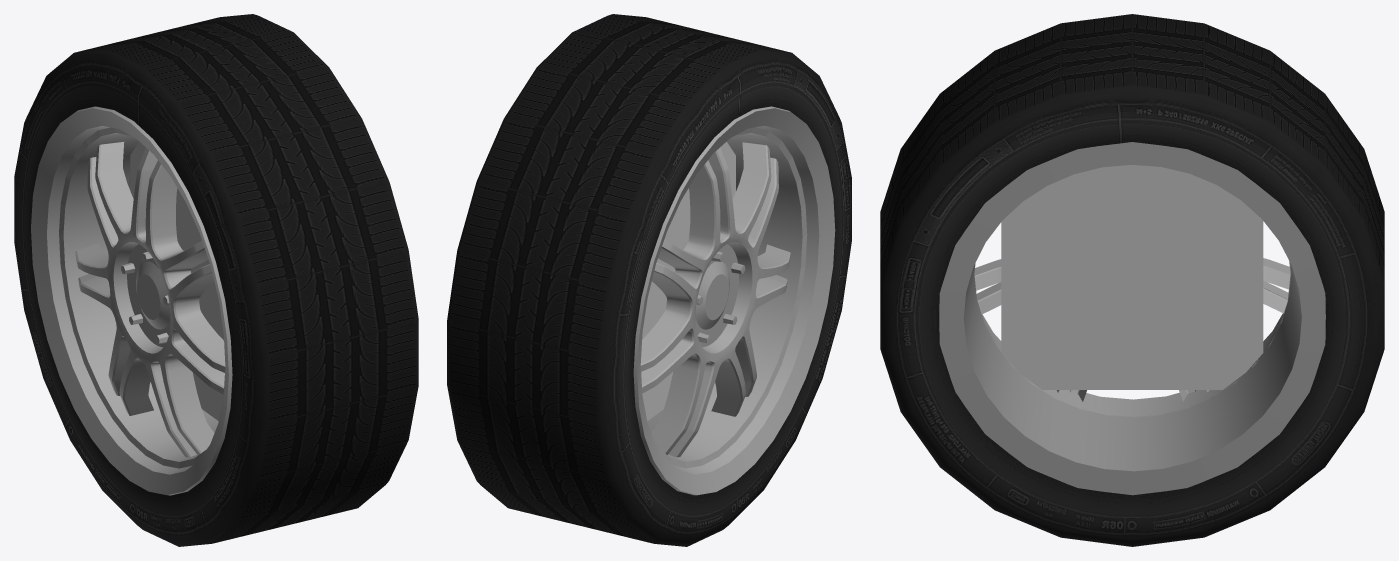
Rendered from mgto_wheel.FBX.
The picture shows the model from 3 angles, left to right: view 1: azimuth 30°, elevation 25°; view 2: azimuth 150°, elevation 25°; view 3: azimuth 270°, elevation 25°; orthographic projection.
Parts seen in each view (by area): view 1: felga002; view 2: felga002; view 3: felga002.
Part boxes in pixels (box(x1,y1,x2,y2)): felga002: box(14, 14, 418, 546); felga002: box(447, 14, 851, 546); felga002: box(880, 14, 1384, 546).
Bounding box in the file's own units: 0.2623 × 0.6873 × 0.6803.
